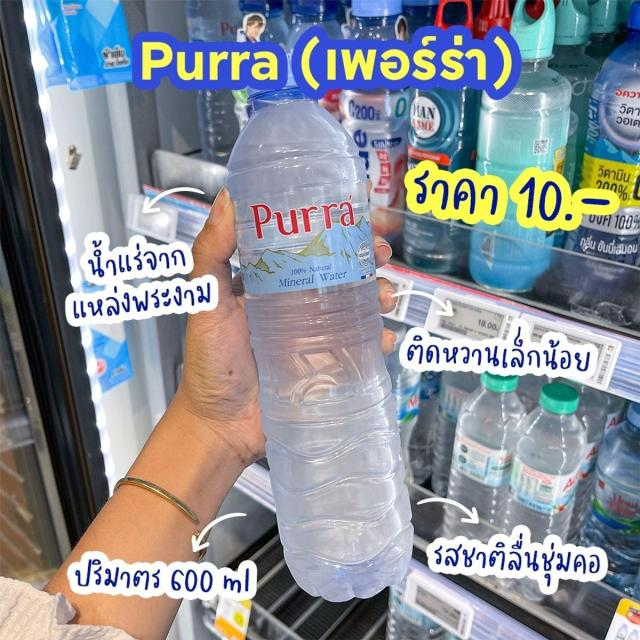bottle: (216, 46, 422, 607)
